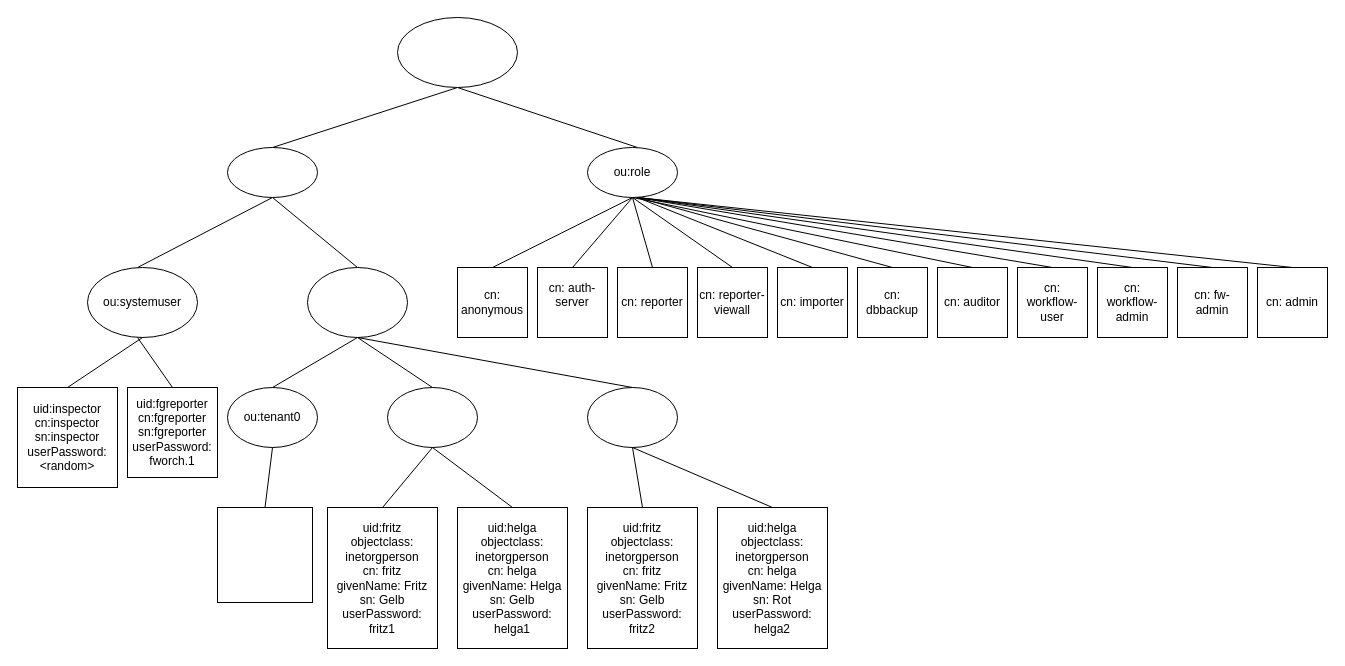
The diagram is 1345 pixels wide and 666 high, and some of its shapes have lost their labels. The centre of each missing label's shape, as x and y in pixels:
"(root) dc:fworch.internal" belongs at point 457,52.
"ou:operator" belongs at point 357,302.
"ou:tenant1" belongs at point 432,417.
"ou:tenant2" belongs at point 632,417.
"ou:user" belongs at point 272,172.
"uid:admin cn: admin sn: admin userPassword: fworch.1" belongs at point 264,554.
